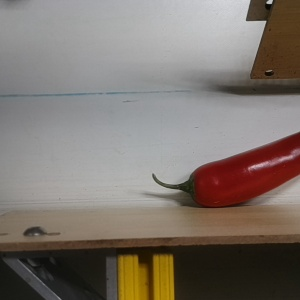Cut Point: (182, 164, 210, 208)
